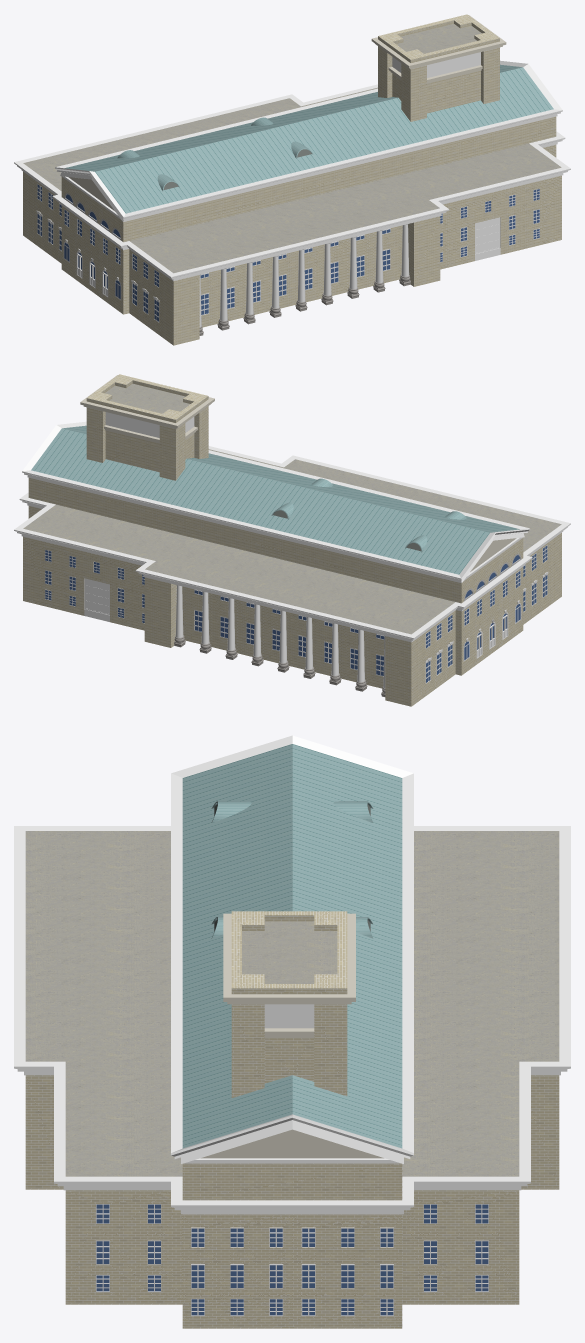
File: Dramikom.glb
3 renders of one model, top to bottom at view 1: azimuth 30°, elevation 25°; view 2: azimuth 150°, elevation 25°; view 3: azimuth 270°, elevation 25°, orthographic. The views are drawn at different scales.
Visible parts, largest first — view 1: root; view 2: root; view 3: root.
Part boxes in pixels (box(x1,y1,x2,y2)): root: box(14, 14, 570, 345); root: box(14, 374, 570, 706); root: box(14, 735, 570, 1328).
Bounding box in the file's own units: 67.29 × 24.76 × 41.21.
9 materials, 3 textured.
